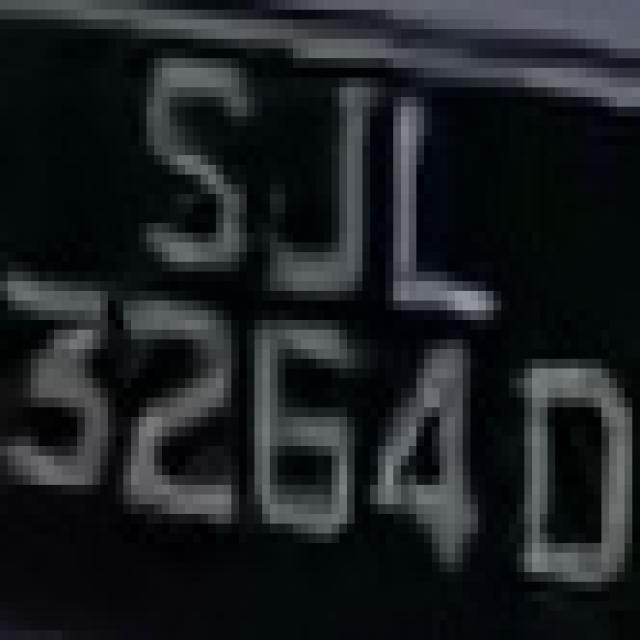2: (100, 272, 247, 552)
3: (31, 233, 123, 533)
4: (339, 310, 486, 562)
6: (232, 291, 362, 562)
D: (501, 358, 640, 620)
J: (232, 58, 362, 310)
L: (370, 48, 486, 330)
S: (108, 58, 262, 301)
